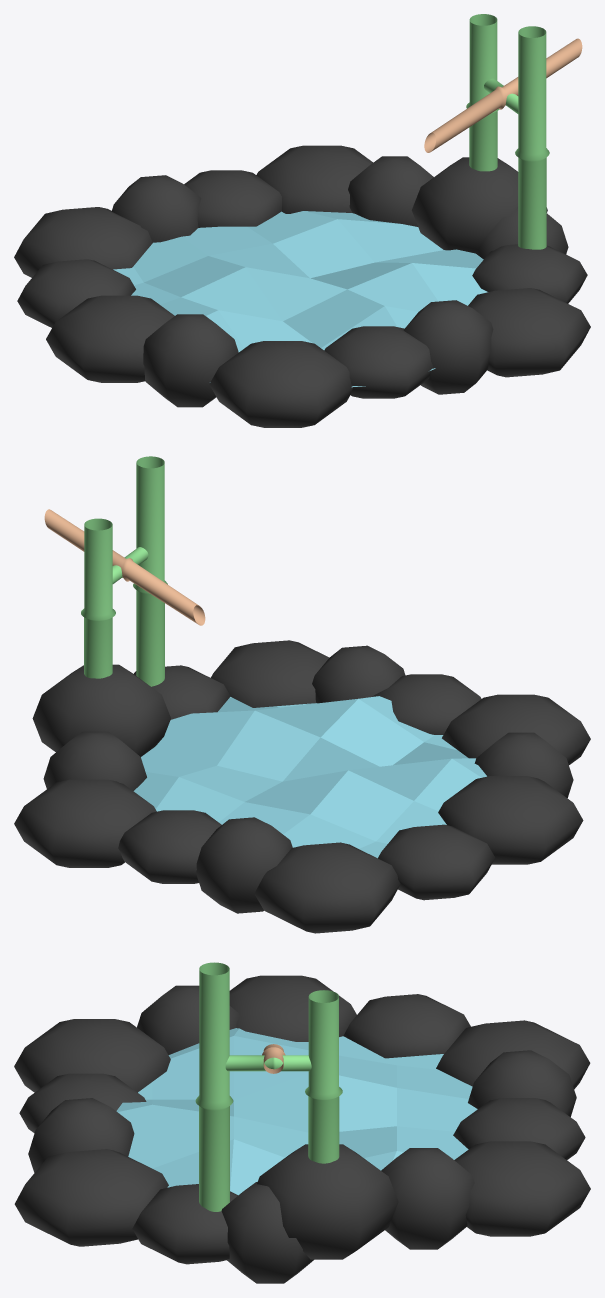
Rendered from FuenteDePiedra.fbx.
3 views of the same model, one above another, from view 1: azimuth 30°, elevation 25°; view 2: azimuth 150°, elevation 25°; view 3: azimuth 270°, elevation 25° (orthographic). The views are drawn at different scales.
Visible parts, largest first — view 1: Piedras, Agua, Fuente, BambúDeAgua; view 2: Piedras, Agua, Fuente, BambúDeAgua; view 3: Piedras, Agua, Fuente.
Boxes of the visible parts, <box> form: Piedras: <box>14,145,590,427</box>; Agua: <box>113,211,487,387</box>; Fuente: <box>466,14,549,249</box>; BambúDeAgua: <box>424,38,582,152</box>; Piedras: <box>14,640,590,933</box>; Agua: <box>133,696,486,858</box>; Fuente: <box>81,456,167,686</box>; BambúDeAgua: <box>44,509,205,625</box>; Piedras: <box>14,975,590,1283</box>; Agua: <box>116,1028,477,1195</box>; Fuente: <box>195,962,342,1211</box>.
Size of the model in its own units: 317 by 165 by 283.
